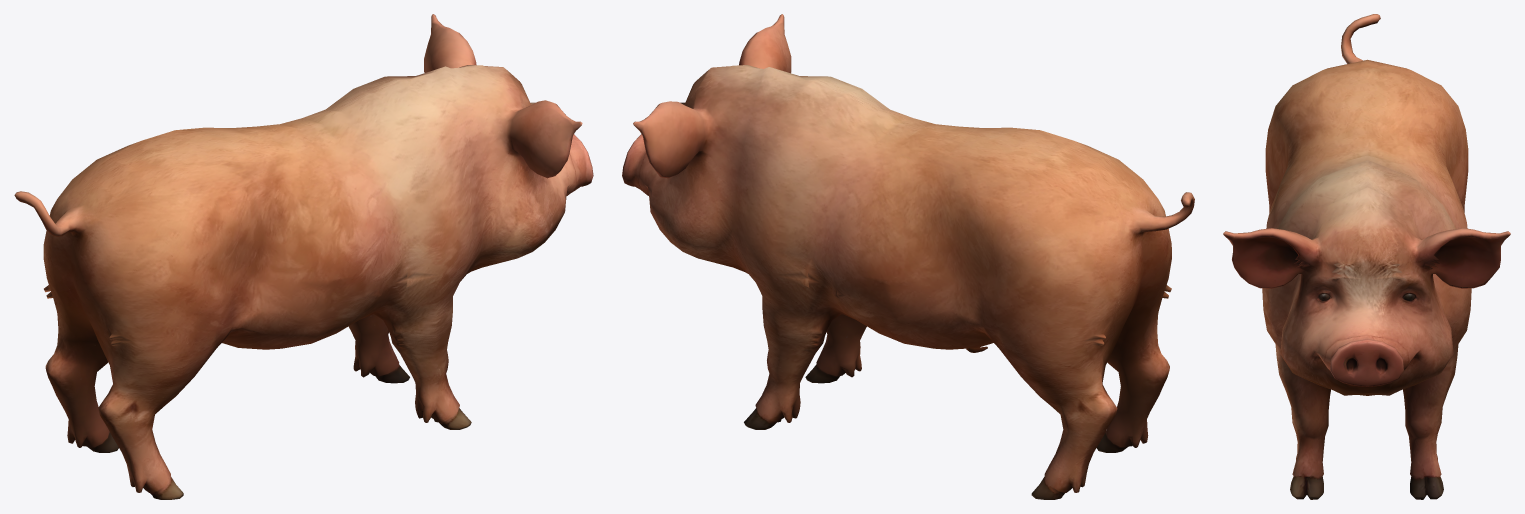
The picture shows the model from 3 angles, left to right: view 1: azimuth 30°, elevation 25°; view 2: azimuth 150°, elevation 25°; view 3: azimuth 270°, elevation 25°; orthographic projection. The views are drawn at different scales.
Parts seen in each view (by area): view 1: tripo_node_0103eed3-c33b-479a-b332-0d43e4a92b9c; view 2: tripo_node_0103eed3-c33b-479a-b332-0d43e4a92b9c; view 3: tripo_node_0103eed3-c33b-479a-b332-0d43e4a92b9c.
Part boxes in pixels (x1,y1,x2,y2): tripo_node_0103eed3-c33b-479a-b332-0d43e4a92b9c: (14,14,593,499); tripo_node_0103eed3-c33b-479a-b332-0d43e4a92b9c: (622,14,1194,499); tripo_node_0103eed3-c33b-479a-b332-0d43e4a92b9c: (1223,14,1510,499).
Size of the model in its own units: 0.998 by 0.5645 by 0.4629.
Materials: 1 (1 with a texture image).
